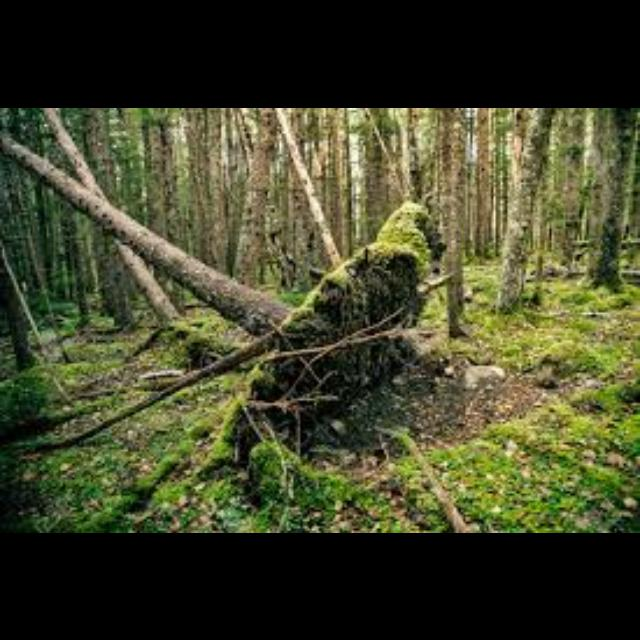Fallen Tree: (0, 135, 428, 463)
